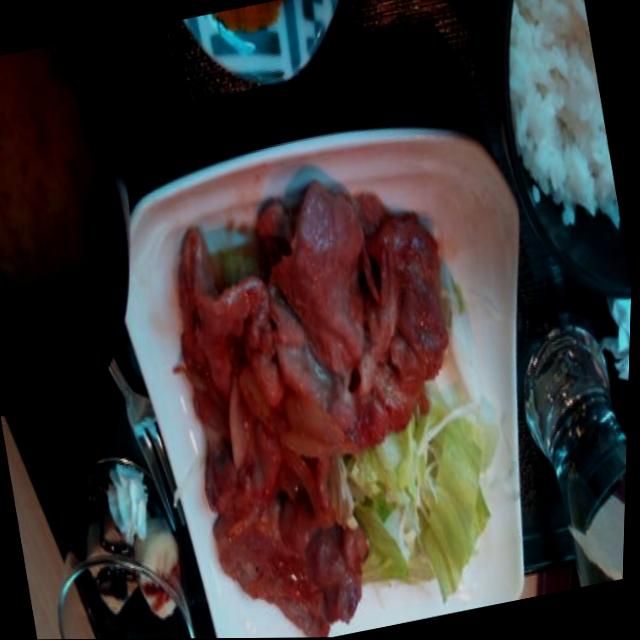猪肉菜式: (138, 151, 531, 639)
米饭主食: (487, 0, 635, 278)
